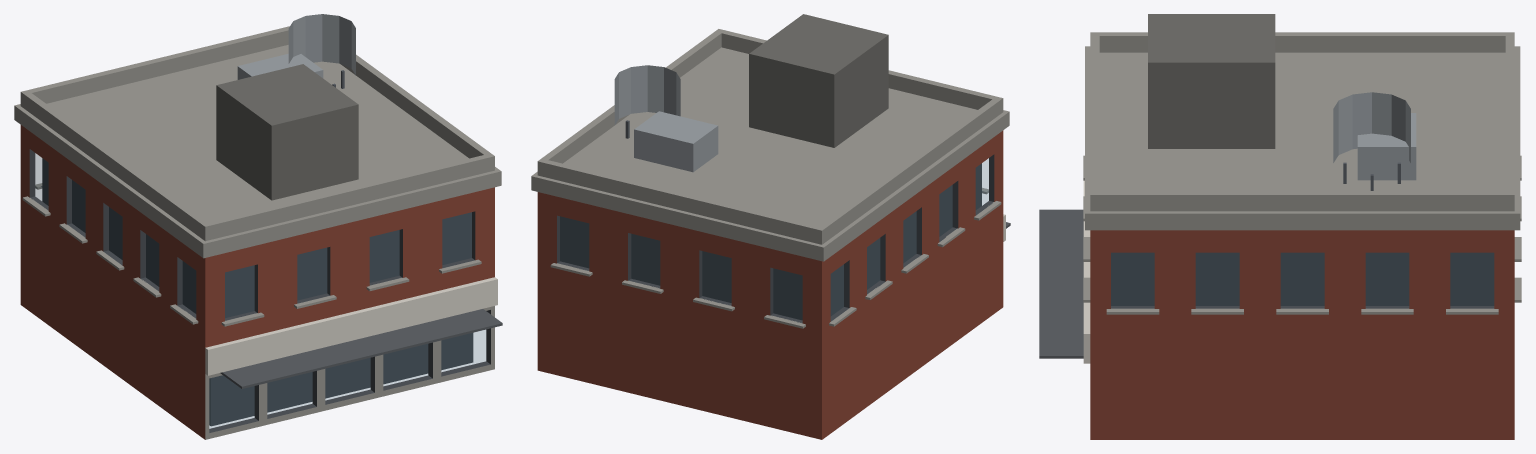
Rendered from shophouse-2.glb.
3 views of the same model, side by side, from view 1: azimuth 30°, elevation 25°; view 2: azimuth 150°, elevation 25°; view 3: azimuth 270°, elevation 25° (orthographic). The views are drawn at different scales.
Parts seen in each view (by area): view 1: shophouse-2; view 2: shophouse-2; view 3: shophouse-2.
Boxes of the visible parts, x1=… form: shophouse-2: x1=14, y1=14, x2=502, y2=439; shophouse-2: x1=531, y1=14, x2=1010, y2=439; shophouse-2: x1=1039, y1=14, x2=1521, y2=439.
Size of the model in its own units: 10.91 by 9.5 by 13.2.
